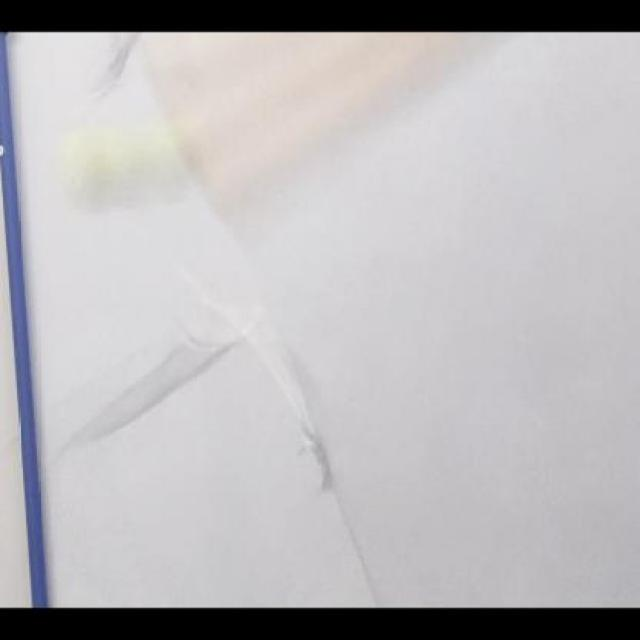baseball: (59, 125, 175, 213)
